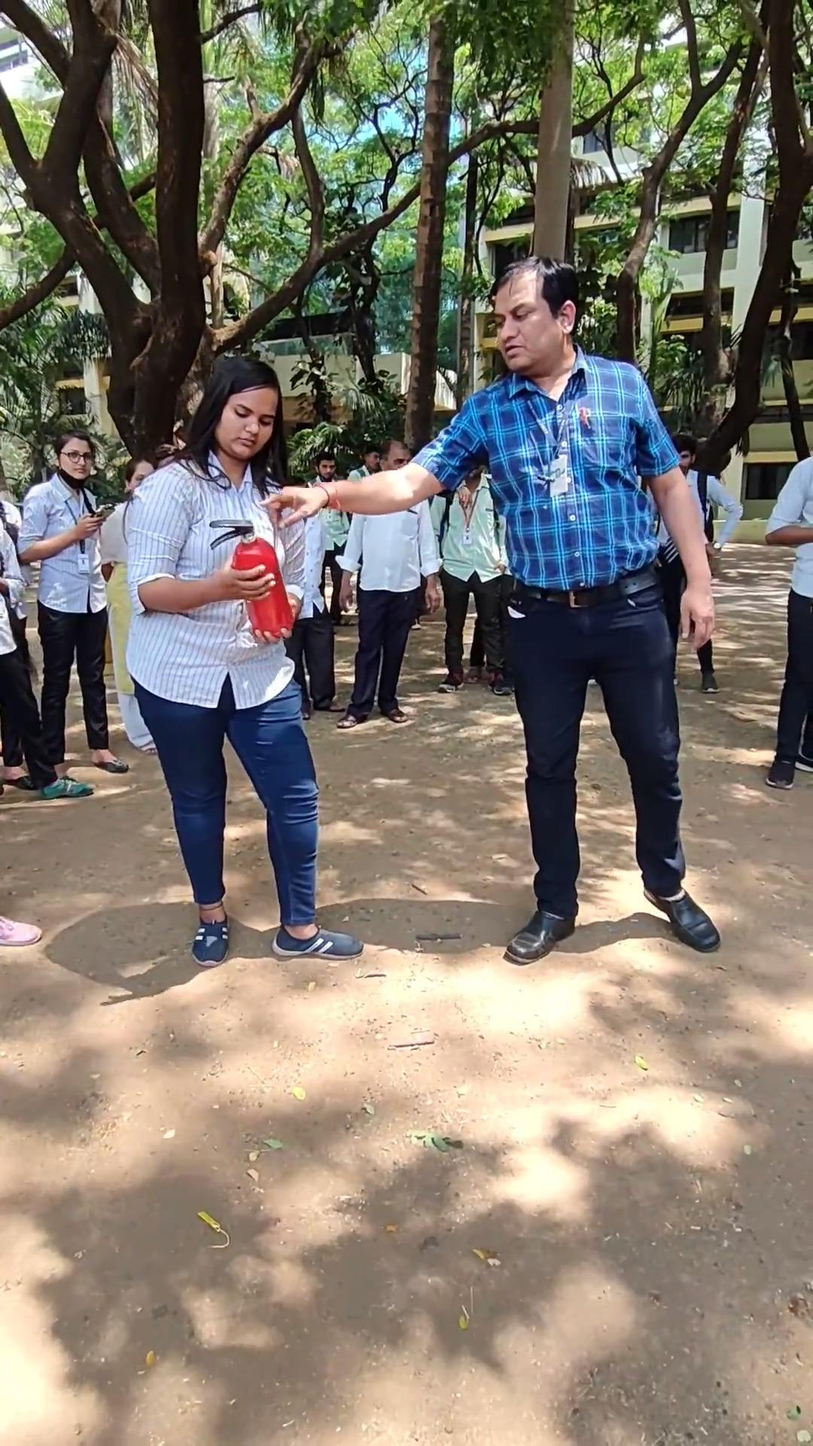FireExtinguisher: (204, 502, 300, 653)
